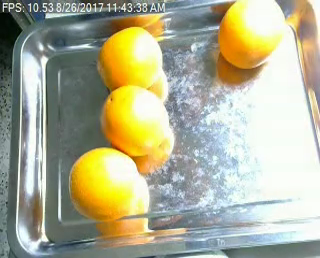Orange: (67, 146, 138, 220), (217, 1, 287, 70), (100, 85, 167, 157), (97, 25, 163, 91)
